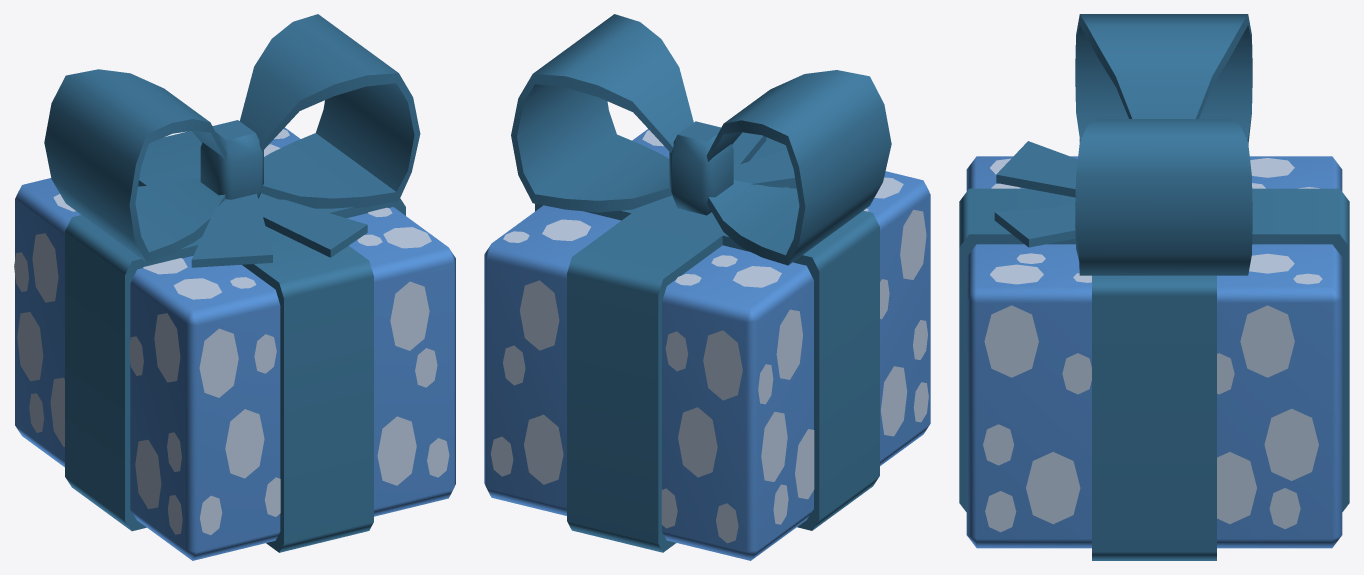
File: Gift_17_231109.glb
3 views of the same model, side by side, from view 1: azimuth 30°, elevation 25°; view 2: azimuth 150°, elevation 25°; view 3: azimuth 270°, elevation 25° (orthographic). The views are drawn at different scales.
Parts seen in each view (by area): view 1: Gift_17; view 2: Gift_17; view 3: Gift_17.
Boxes of the visible parts, x1,y1,x2,y2 form: Gift_17: [14, 14, 455, 560]; Gift_17: [484, 14, 930, 560]; Gift_17: [959, 14, 1349, 560].
Bounding box in the file's own units: 0.6566 × 0.8644 × 0.7321.
1 material, 1 textured.
